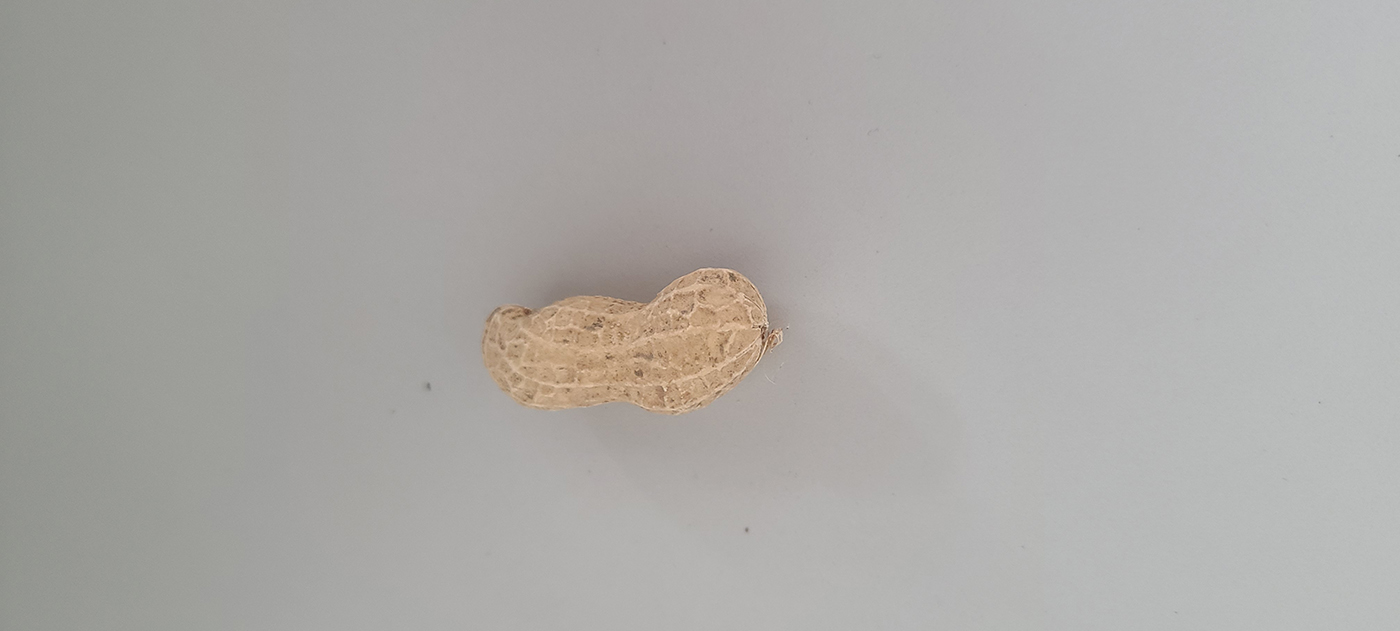h: (480, 265, 774, 416)
